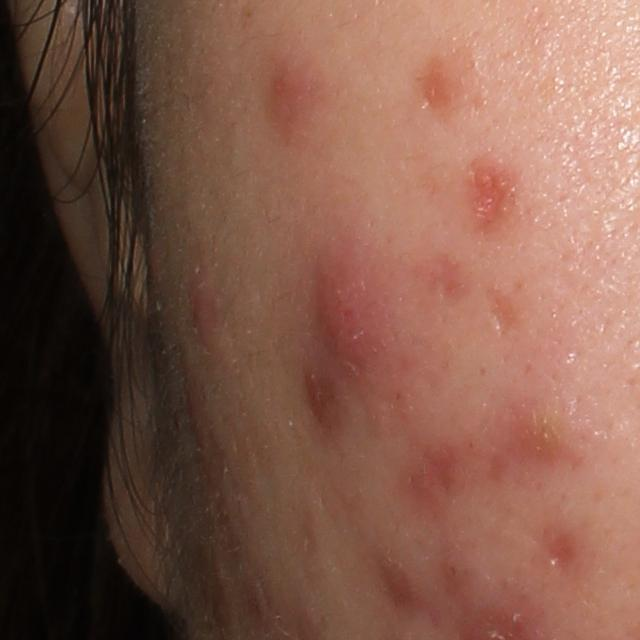nodule: (312, 238, 391, 389)
papule: (264, 54, 324, 137), (185, 260, 229, 360), (514, 414, 562, 464)
